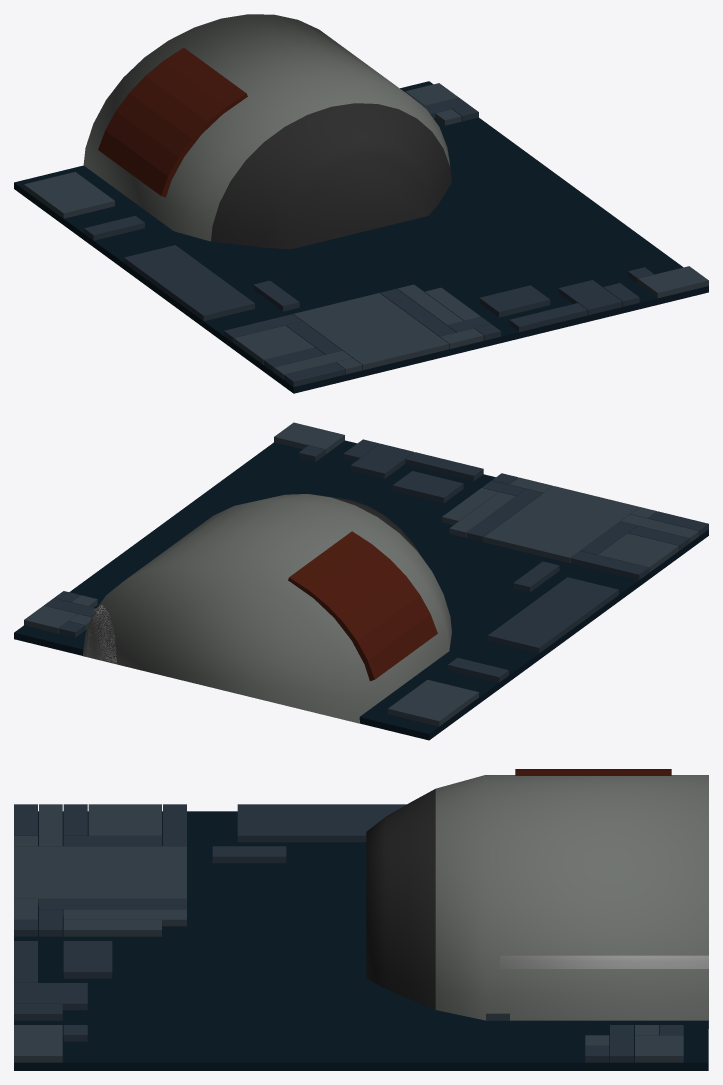
File: newshc-55.glb
3 views of the same model, one above another, from view 1: azimuth 30°, elevation 25°; view 2: azimuth 150°, elevation 25°; view 3: azimuth 270°, elevation 25° (orthographic). The views are drawn at different scales.
Visible parts, largest first — view 1: newshc-55; view 2: newshc-55; view 3: newshc-55.
Boxes of the visible parts, box(x1,y1,x2,y2) form: newshc-55: box(14, 14, 708, 393); newshc-55: box(14, 422, 708, 740); newshc-55: box(14, 769, 708, 1070).
Bounding box in the file's own units: 2 × 0.55 × 2.33.
